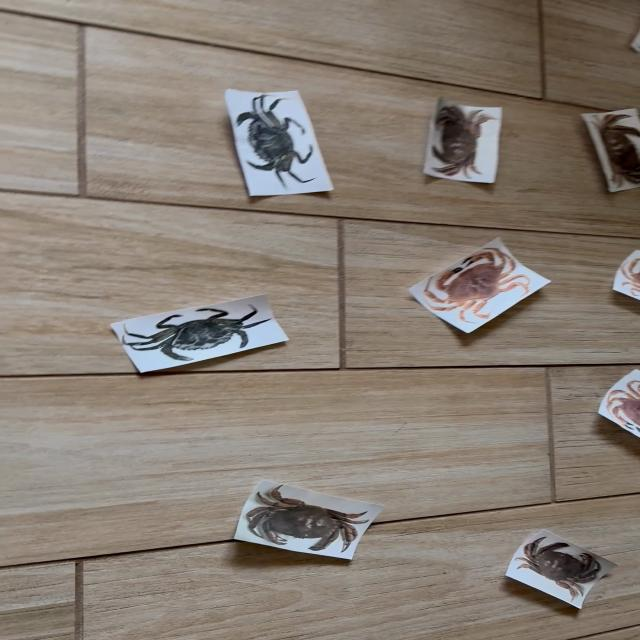egc: (112, 294, 287, 373), (227, 90, 327, 190)
